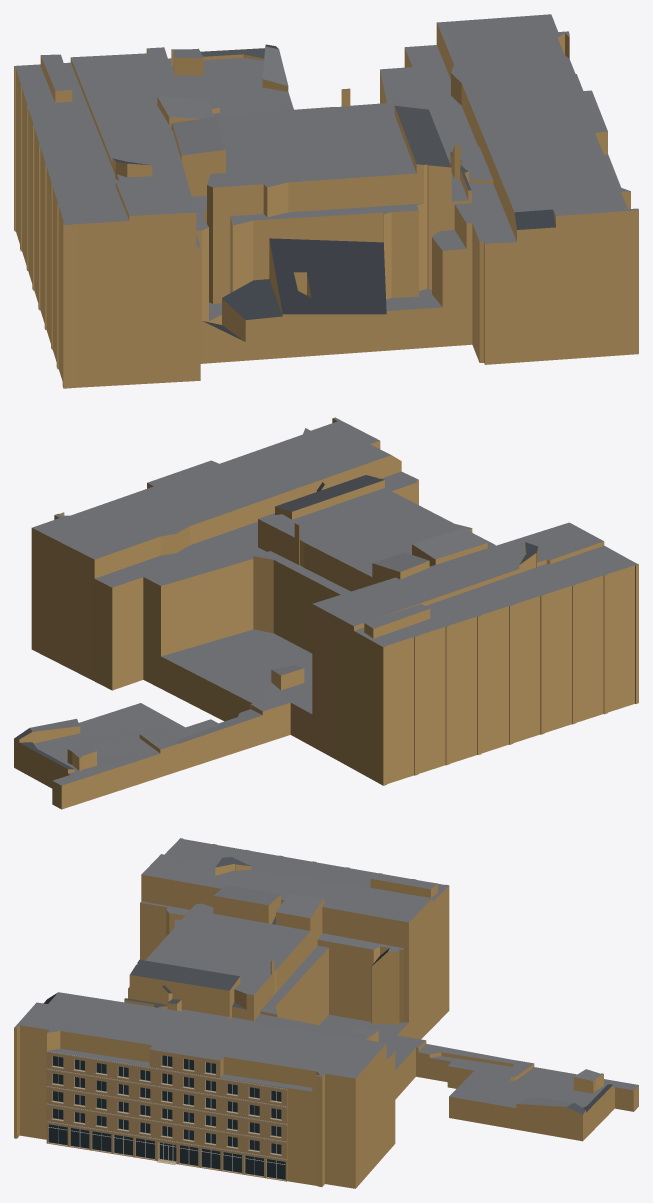
File: recipe-large-van-oldenbarneveldtstraat-48-137990.glb
3 renders of one model, top to bottom at view 1: azimuth 30°, elevation 25°; view 2: azimuth 150°, elevation 25°; view 3: azimuth 270°, elevation 25°, orthographic. The views are drawn at different scales.
Parts seen in each view (by area): view 1: van-oldenbarneveldtstraat-48-137990; view 2: van-oldenbarneveldtstraat-48-137990; view 3: van-oldenbarneveldtstraat-48-137990.
Part boxes in pixels (x1,y1,x2,y2): van-oldenbarneveldtstraat-48-137990: (14, 14, 638, 388); van-oldenbarneveldtstraat-48-137990: (14, 417, 638, 809); van-oldenbarneveldtstraat-48-137990: (14, 838, 638, 1188).
Bounding box in the file's own units: 77.88 × 22.57 × 91.27.
